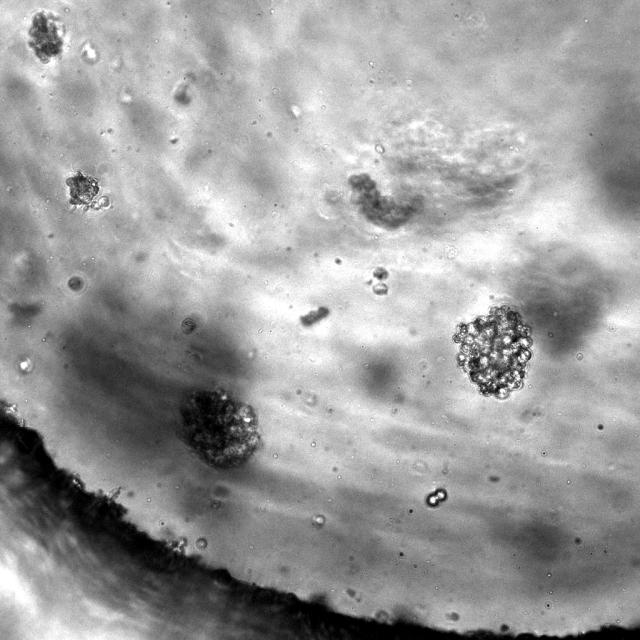organoid: (452, 306, 532, 398), (179, 386, 261, 469), (349, 173, 421, 229), (28, 11, 63, 63), (66, 170, 110, 209), (368, 266, 388, 295), (426, 487, 448, 507), (67, 274, 85, 292), (181, 317, 196, 334), (194, 537, 208, 551)
